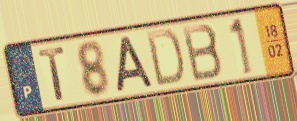1: (227, 16, 255, 77)
8: (76, 38, 112, 99)
A: (115, 33, 156, 95)
B: (179, 21, 225, 84)
D: (144, 27, 186, 89)
T: (36, 44, 68, 103)
